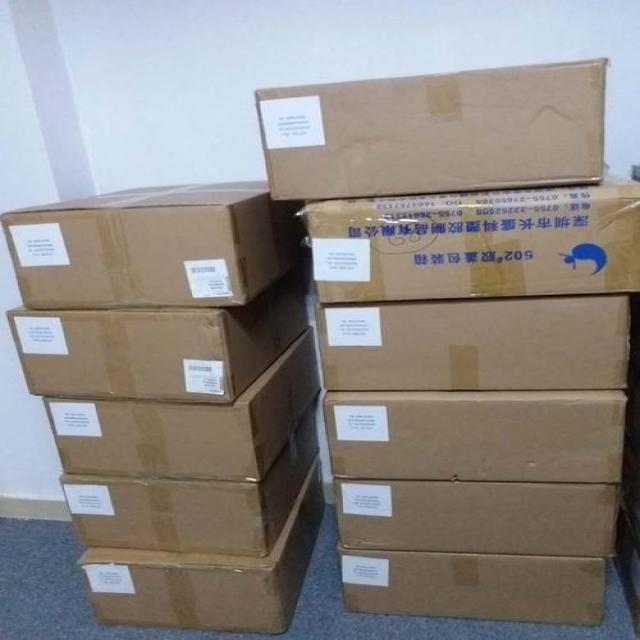box: (254, 58, 610, 201), (76, 454, 327, 634), (293, 174, 639, 303), (43, 326, 321, 482), (6, 260, 310, 402), (59, 402, 319, 557), (0, 180, 311, 309), (316, 293, 632, 391), (323, 390, 628, 484), (338, 538, 605, 625), (333, 477, 621, 557)
